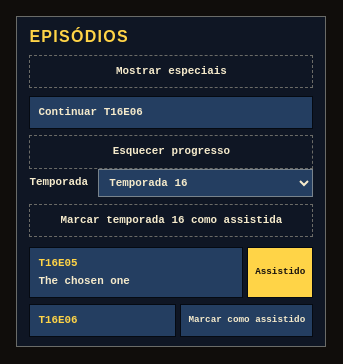
Test: series episode picker › forgets this series progress only, and only on request
Click the button "Esquecer progresso": coordinates (171, 152) [29,135,313,169]
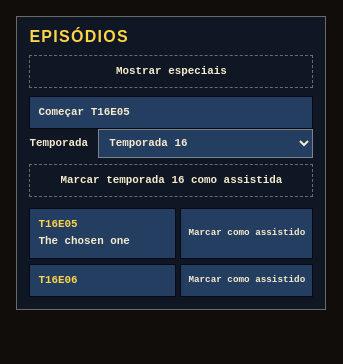
expect the button "Começar T16E05" is shown: met, box [29,96,313,129]
expect the button "Esquecer progresso" is gone: met
expect the button with aria-label "Marcar como assistido T16E05" is shown: met, box [180,208,314,259]
